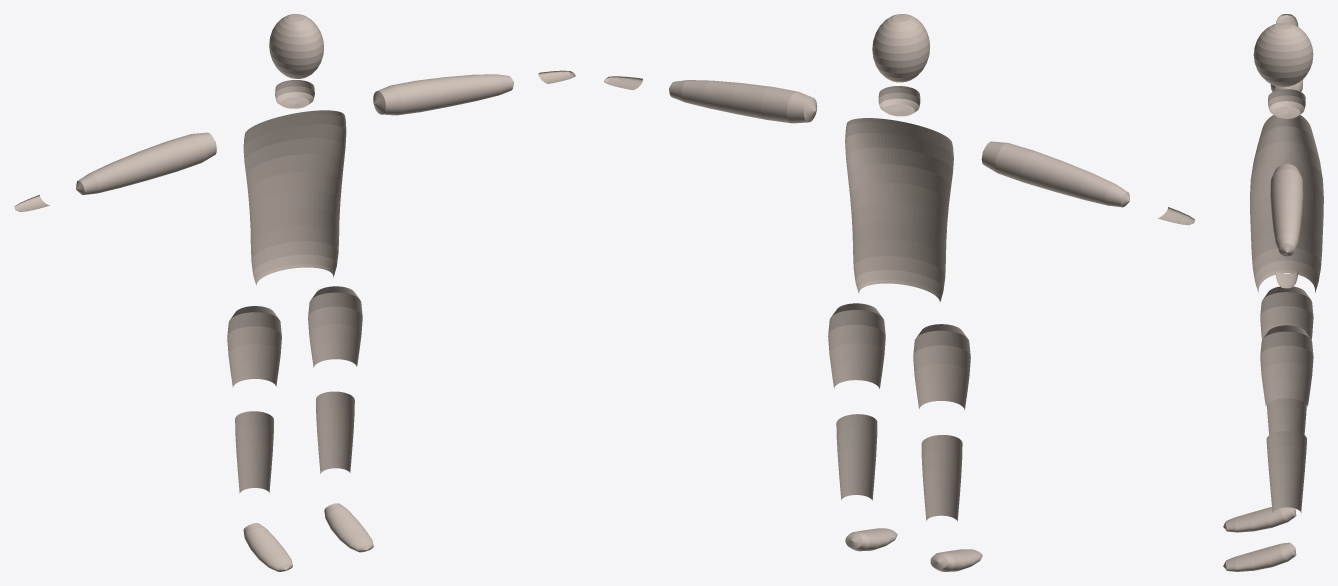
File: body_mesh.glb
3 renders of one model, left to right at view 1: azimuth 30°, elevation 25°; view 2: azimuth 150°, elevation 25°; view 3: azimuth 270°, elevation 25°, orthographic. The views are drawn at different scales.
Visible parts, largest first — view 1: world; view 2: world; view 3: world.
Part boxes in pixels (box(x1,y1,x2,y2)): world: box(14, 14, 575, 571); world: box(604, 14, 1194, 571); world: box(1223, 14, 1323, 571).
Bounding box in the file's own units: 2.08 × 1.86 × 0.325.
